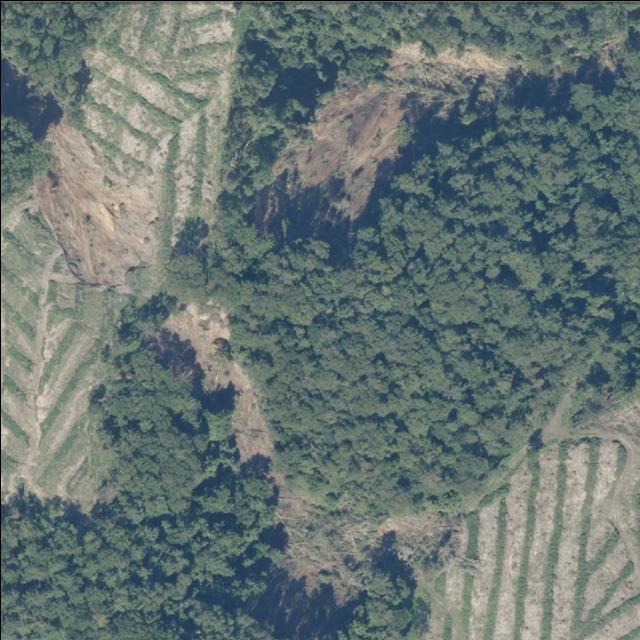landslide: (254, 41, 510, 233), (26, 129, 156, 285), (162, 301, 271, 463)
